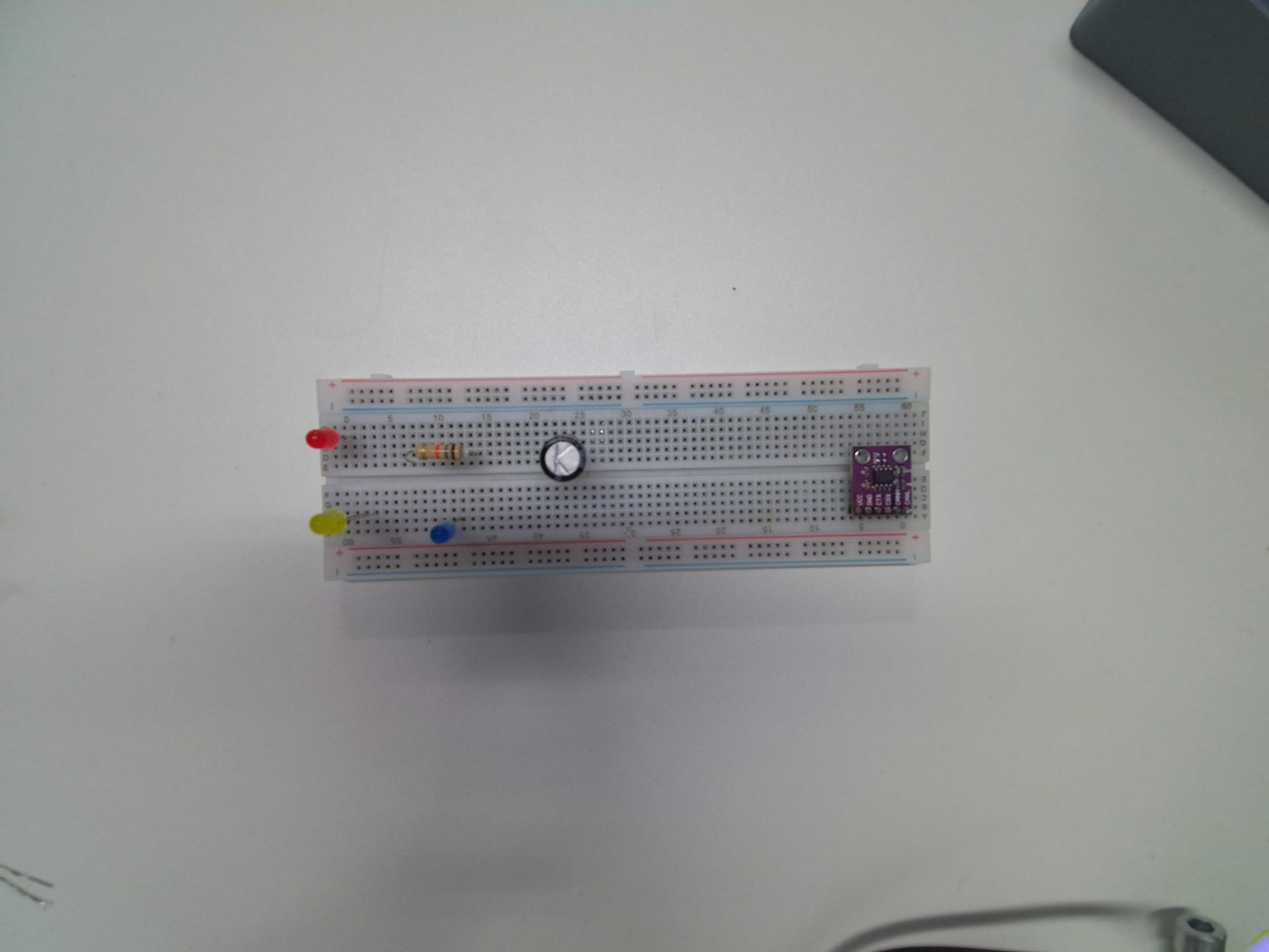base: (309, 370, 932, 583)
blue-led: (432, 519, 457, 547)
capacitor: (540, 436, 585, 482)
purple-board: (849, 442, 915, 519)
red-led: (304, 428, 344, 456)
resistor-big: (412, 442, 463, 466)
yellow-led: (309, 509, 346, 535)
